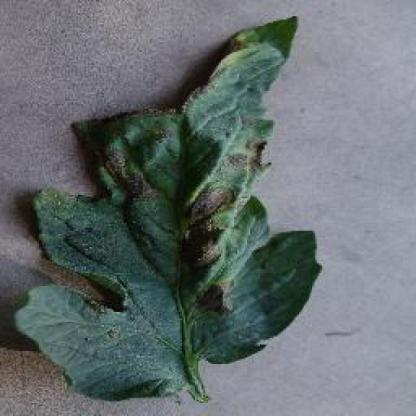Tomato_Blight: (22, 17, 317, 378)
